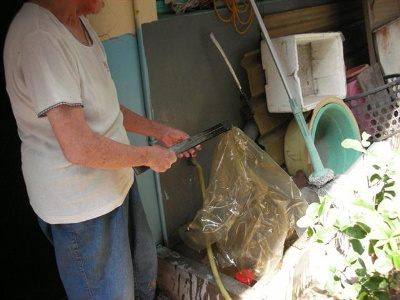bowl: (285, 96, 362, 182)
plastic_bag: (205, 143, 289, 273)
styrofoam: (259, 31, 348, 115)
